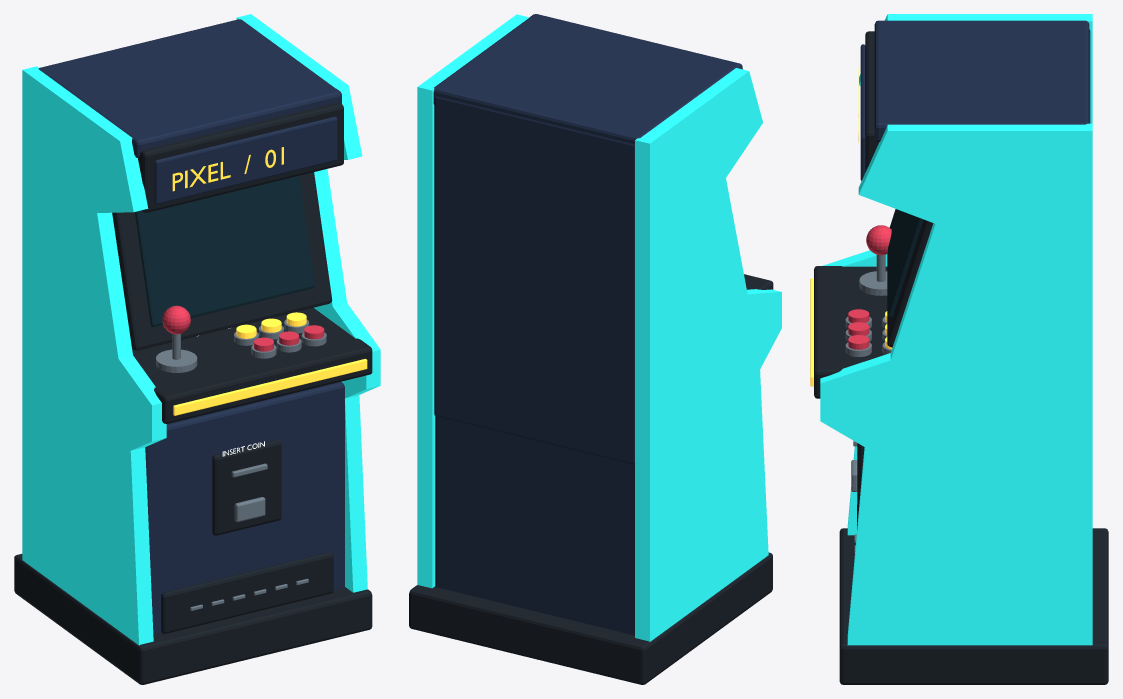
The model's file is ArcadeMachine.fbx.
3 renders of one model, left to right at view 1: azimuth 30°, elevation 25°; view 2: azimuth 150°, elevation 25°; view 3: azimuth 270°, elevation 25°, orthographic. The views are drawn at different scales.
Parts seen in each view (by area): view 1: Arcade_Side_-1, Arcade_LowerCabinet, Arcade_Top, Arcade_Screen, Arcade_Base, Arcade_ControlDeck, Arcade_Side_1, Arcade_ScreenBezel, Arcade_MarqueeGlass, Arcade_KickPlate, Arcade_Marquee, Arcade_CoinPlate (+5 smaller); view 2: Arcade_Rear, Arcade_Side_-1, Arcade_LowerCabinet, Arcade_Top, Arcade_Base, Arcade_Side_1; view 3: Arcade_Side_1, Arcade_Top, Arcade_Base, Arcade_ControlDeck, Arcade_Side_-1, Arcade_Screen, Arcade_ScreenBezel, Arcade_Marquee, Arcade_MarqueeGlass, Arcade_Joystick, Arcade_JoystickBase.
Part boxes in pixels (<box>): Arcade_Side_-1: <box>22,66,166,645</box>; Arcade_LowerCabinet: <box>145,381,344,633</box>; Arcade_Top: <box>38,19,341,158</box>; Arcade_Screen: <box>134,175,314,326</box>; Arcade_Base: <box>14,554,372,684</box>; Arcade_ControlDeck: <box>132,307,372,423</box>; Arcade_Side_1: <box>236,14,380,592</box>; Arcade_ScreenBezel: <box>112,172,332,350</box>; Arcade_MarqueeGlass: <box>154,116,337,204</box>; Arcade_KickPlate: <box>161,552,333,633</box>; Arcade_Marquee: <box>138,102,343,212</box>; Arcade_CoinPlate: <box>212,440,281,535</box>; Arcade_Rear: <box>434,96,634,464</box>; Arcade_Side_-1: <box>635,68,781,641</box>; Arcade_LowerCabinet: <box>435,416,634,635</box>; Arcade_Top: <box>433,14,742,144</box>; Arcade_Base: <box>409,552,772,684</box>; Arcade_Side_1: <box>417,14,529,588</box>; Arcade_Side_1: <box>820,123,1092,645</box>; Arcade_Top: <box>874,20,1089,141</box>; Arcade_Base: <box>839,528,1108,684</box>; Arcade_ControlDeck: <box>814,266,887,398</box>; Arcade_Side_-1: <box>822,14,1092,535</box>; Arcade_Screen: <box>888,209,923,317</box>; Arcade_ScreenBezel: <box>887,219,933,347</box>; Arcade_Marquee: <box>865,31,879,172</box>; Arcade_MarqueeGlass: <box>860,44,865,180</box>; Arcade_Joystick: <box>866,225,891,255</box>; Arcade_JoystickBase: <box>859,271,887,295</box>.
Size of the model in its own units: 88 by 191 by 93.1.
